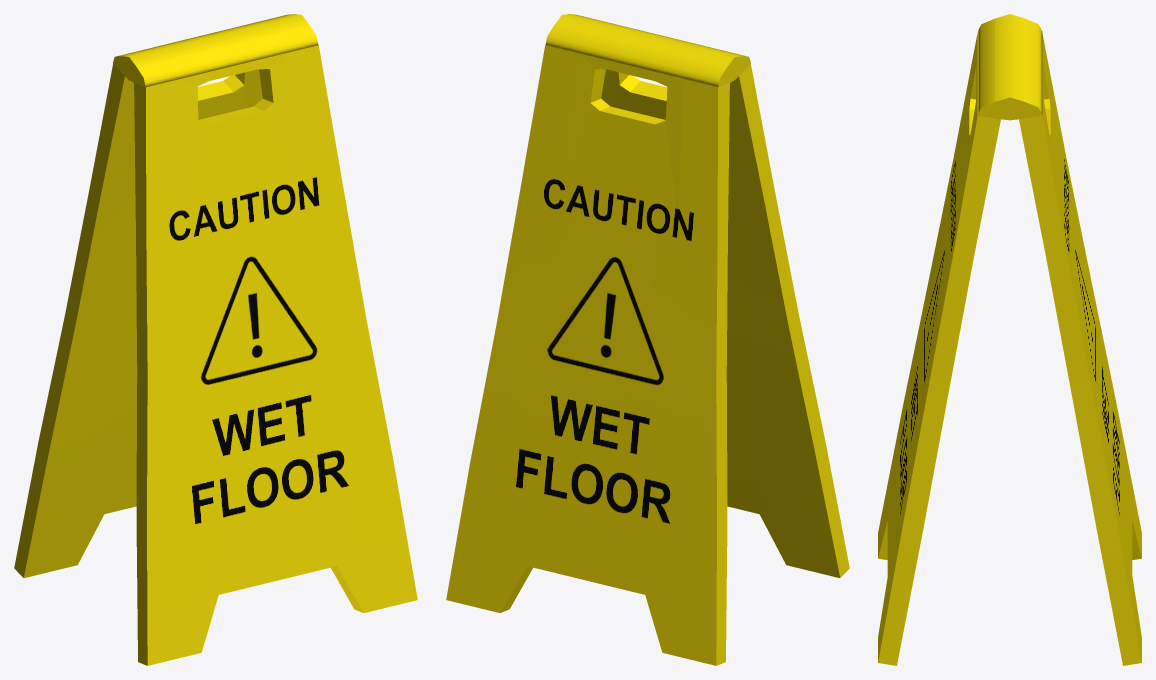
Rendered from caution.FBX.
3 renders of one model, left to right at view 1: azimuth 30°, elevation 25°; view 2: azimuth 150°, elevation 25°; view 3: azimuth 270°, elevation 25°, orthographic.
Visible parts, largest first — view 1: Box001, Box004, Box003; view 2: Box004, Box001, Box003; view 3: Box004, Box001, Box003.
Boxes of the visible parts, box(x1,y1,x2,y2) form: Box001: box(134, 45, 417, 665); Box004: box(14, 64, 262, 577); Box003: box(113, 14, 318, 87); Box004: box(446, 45, 729, 665); Box001: box(601, 64, 849, 577); Box003: box(545, 14, 750, 87); Box004: box(1019, 33, 1141, 665); Box001: box(878, 33, 1000, 665); Box003: box(977, 14, 1042, 120).
Size of the model in its own units: 19.07 by 37.18 by 16.31.
